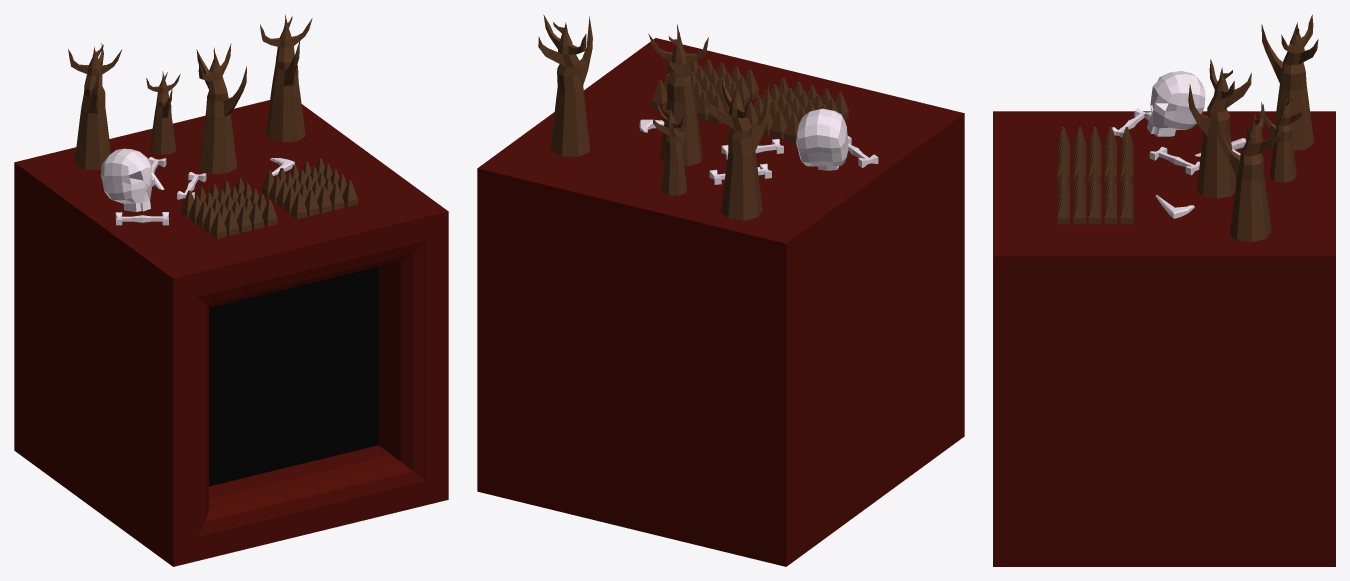
File: Show3.fbx
3 views of the same model, side by side, from view 1: azimuth 30°, elevation 25°; view 2: azimuth 150°, elevation 25°; view 3: azimuth 270°, elevation 25° (orthographic). The views are drawn at different scales.
Visible parts, largest first — view 1: Cube.023; view 2: Cube.023; view 3: Cube.023.
Part boxes in pixels (x1,y1,x2,y2): Cube.023: [14, 14, 448, 566]; Cube.023: [477, 15, 964, 566]; Cube.023: [993, 14, 1335, 566].
Size of the model in its own units: 200 by 279 by 200.
